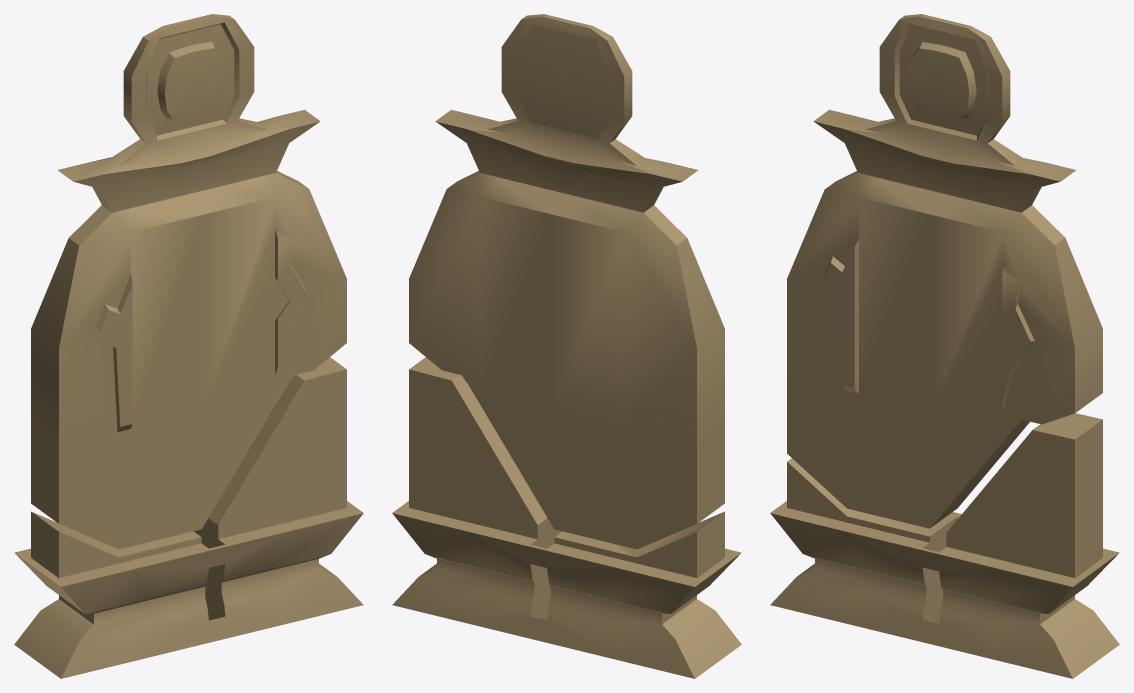
The model's file is NadgroybDek.fbx.
3 renders of one model, left to right at view 1: azimuth 30°, elevation 25°; view 2: azimuth 150°, elevation 25°; view 3: azimuth 330°, elevation 25°, orthographic.
Visible parts, largest first — view 1: Cube; view 2: Cube; view 3: Cube.
Part boxes in pixels (bbox=[...]): Cube: bbox=[14, 14, 363, 678]; Cube: bbox=[392, 14, 741, 678]; Cube: bbox=[770, 14, 1119, 678].
Size of the model in its own units: 138 by 263 by 37.12.
